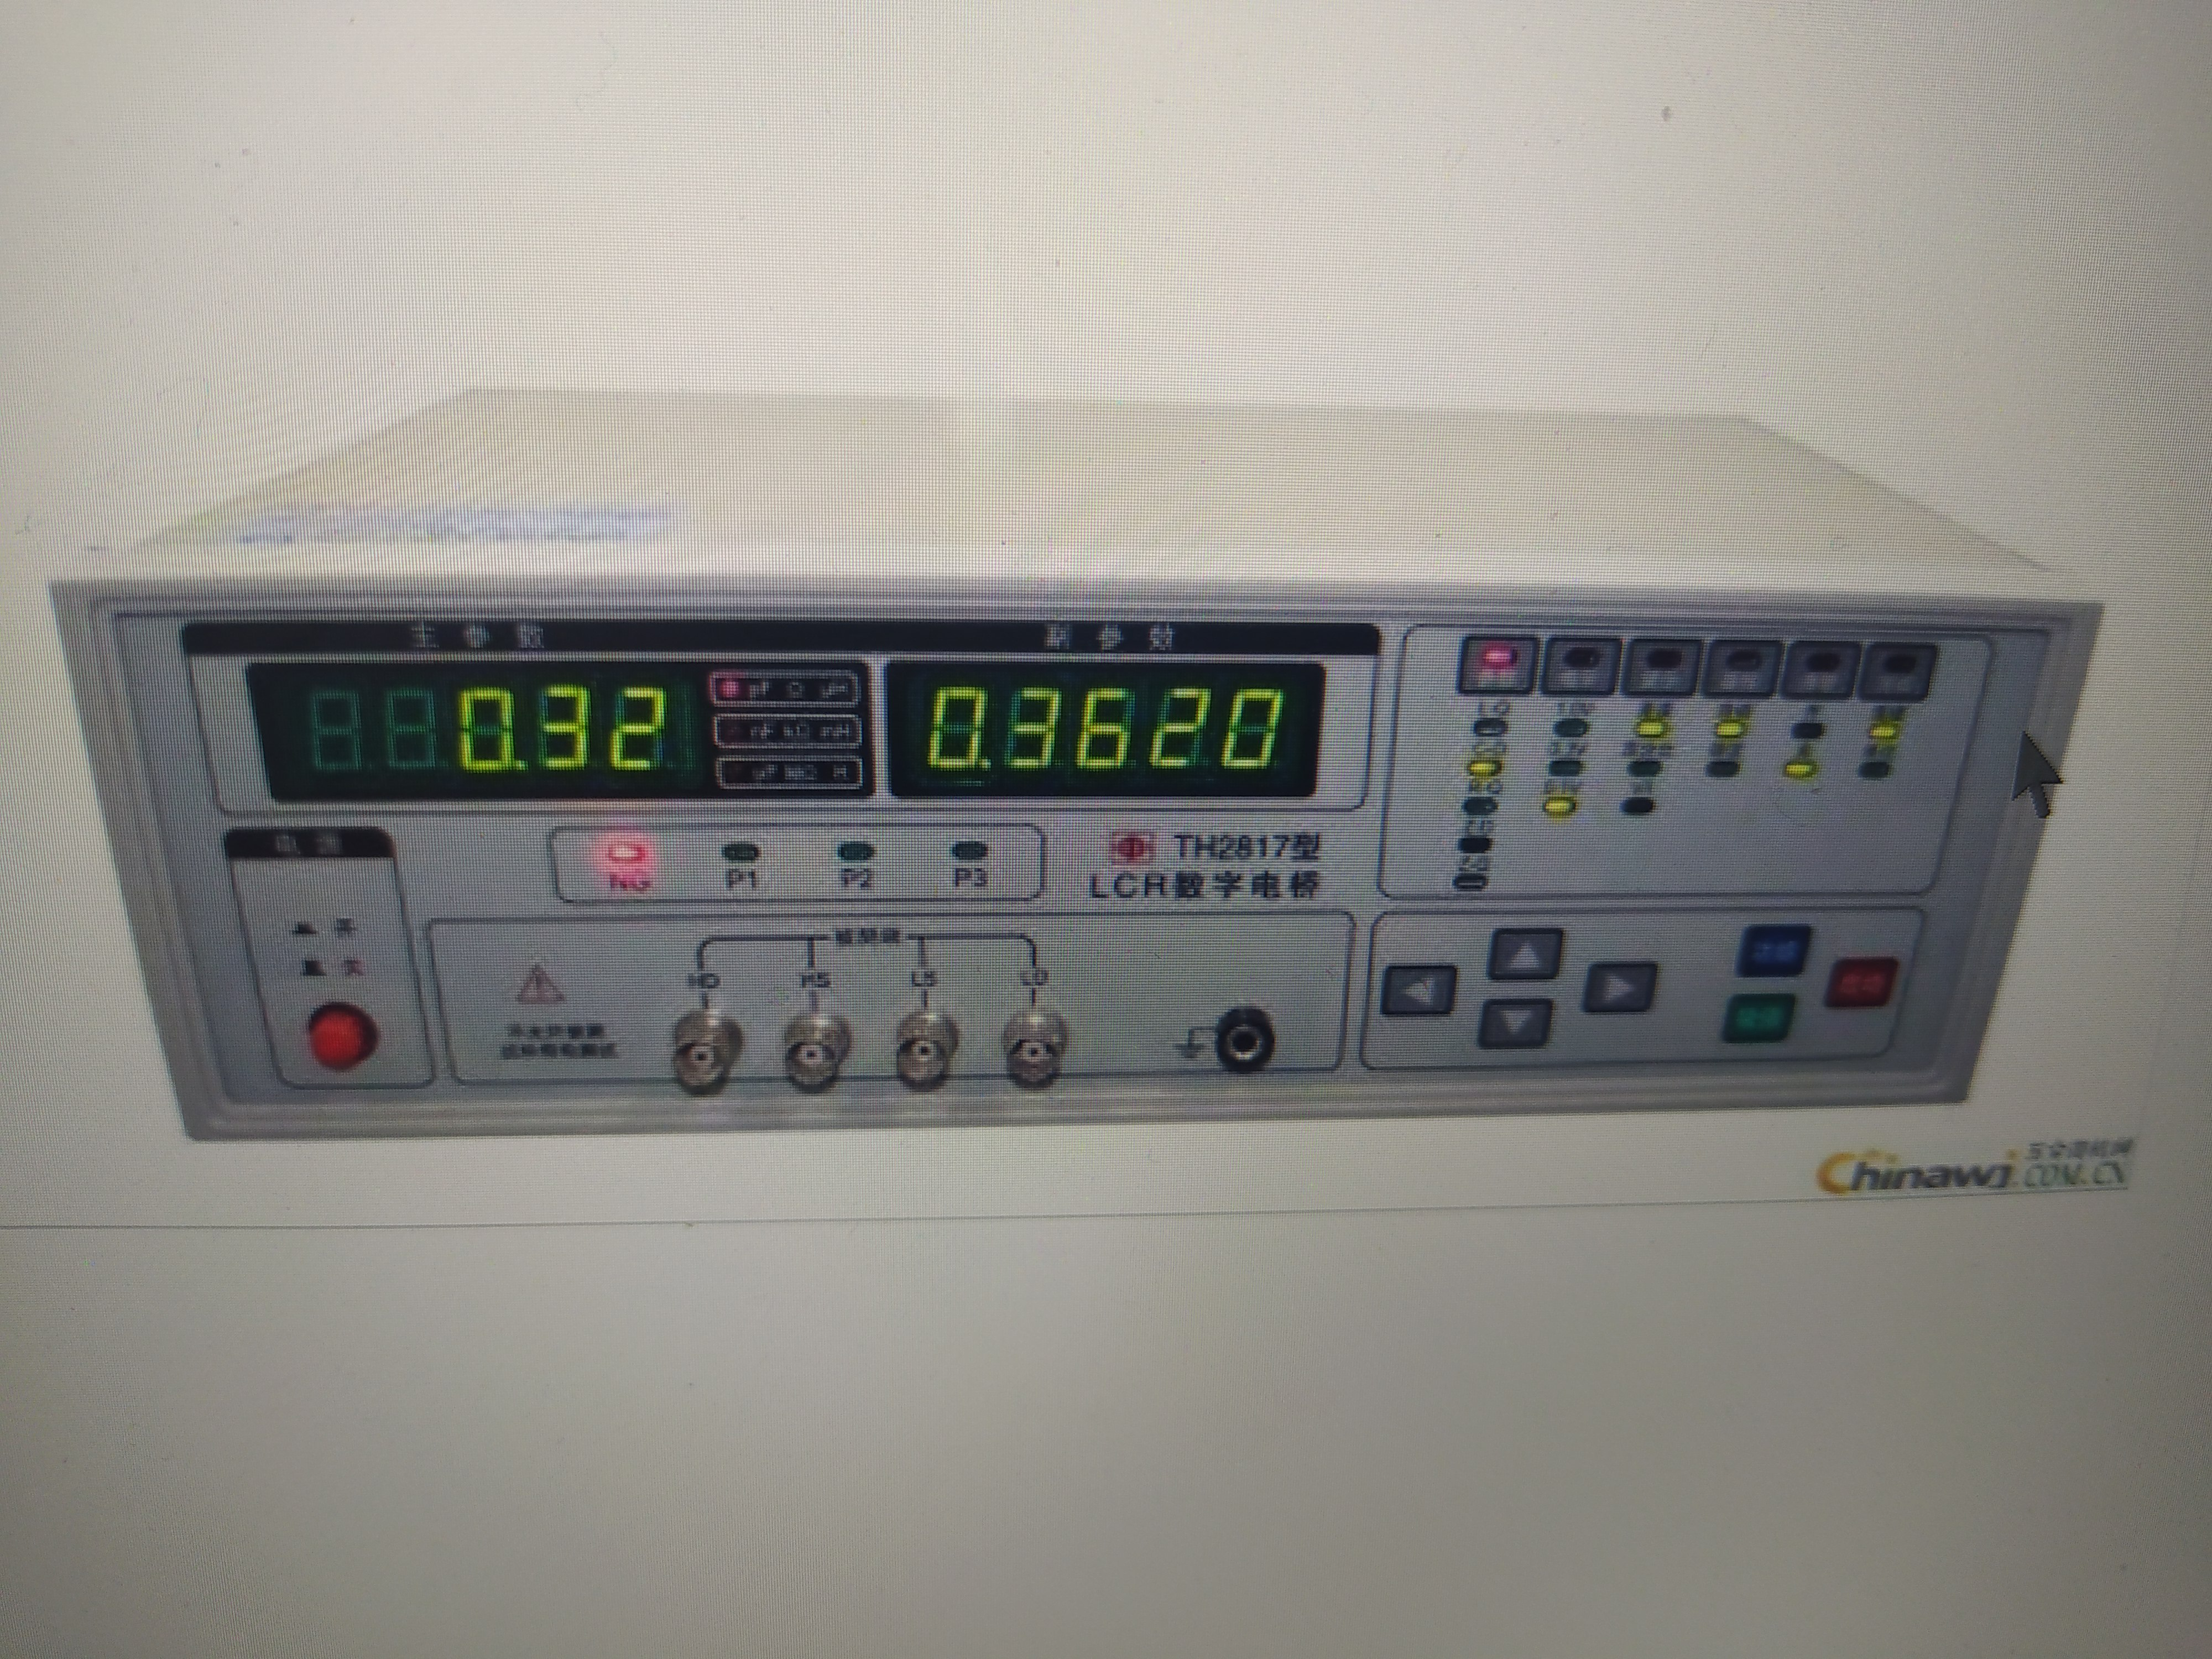.: (514, 687, 531, 779), (984, 687, 998, 788)
0: (1224, 685, 1287, 786), (458, 685, 512, 777), (932, 685, 982, 774)
1: (1256, 831, 1271, 870), (747, 868, 761, 899)
2: (1150, 685, 1217, 782), (611, 681, 669, 782), (859, 864, 878, 899), (1219, 831, 1235, 866)
3: (540, 687, 594, 781), (1008, 685, 1062, 779), (972, 864, 991, 897)
6: (1075, 685, 1136, 781)
7: (1271, 835, 1291, 868)
8: (1237, 833, 1254, 868)
